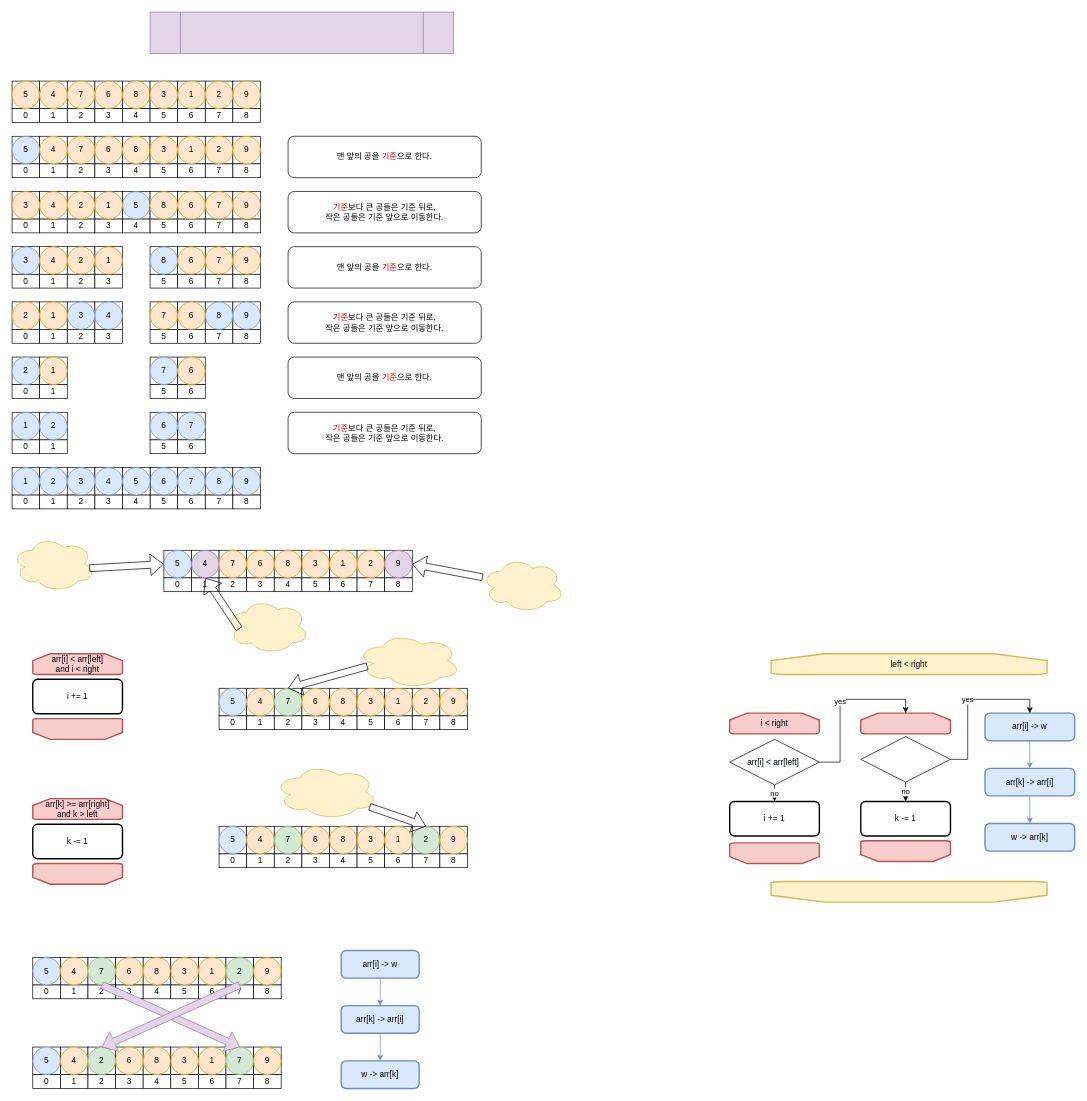
This 1087x1101 diagram has some shape labels left out. Here are the shapes that lost their labels. From the top down, the centre of each, then its label:
[301,32]: Quick Sort
[53,564]: 기준값 left
[522,584]: k right
[267,626]: i left + 1
[408,660]: i가 2가 되는 지점에서 기준보다 큰 데이터를 찾았다.
[905,723]: k > left
[905,759]: arr[k] >= arr[right]
[326,791]: k가 7이 되는 지점에서 기준보다 작은 데이터를 찾았다.
